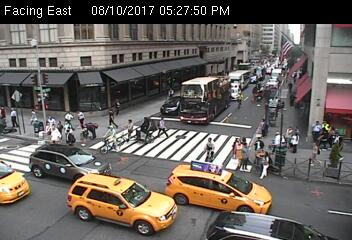neg: (97, 121, 122, 154), (135, 115, 155, 142), (175, 76, 194, 101), (194, 111, 209, 131)
pos: (151, 115, 171, 141), (4, 105, 22, 129), (73, 110, 86, 126)
